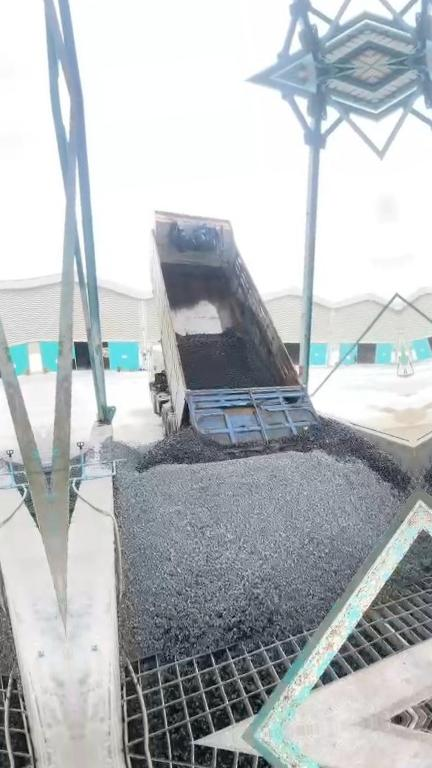gravel: (99, 410, 417, 657), (177, 328, 284, 388), (392, 534, 427, 586)
sand: (379, 407, 413, 440)
